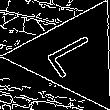L_NE: (39, 30, 106, 82)
